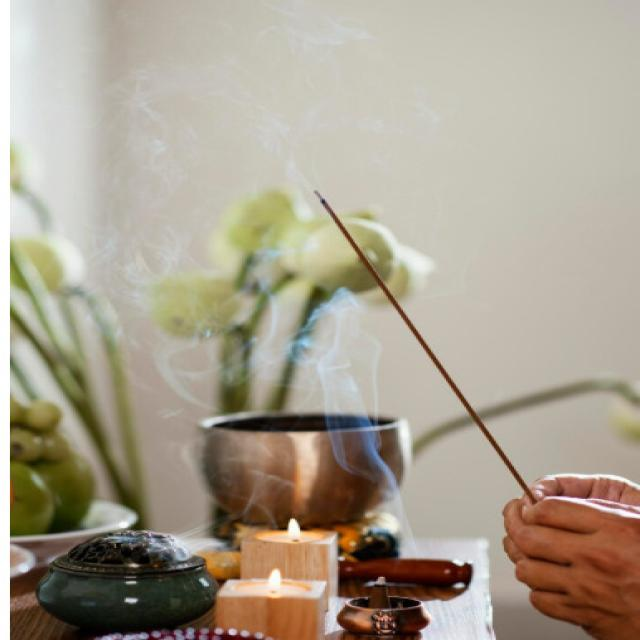Agarbatti: (308, 178, 549, 505)
